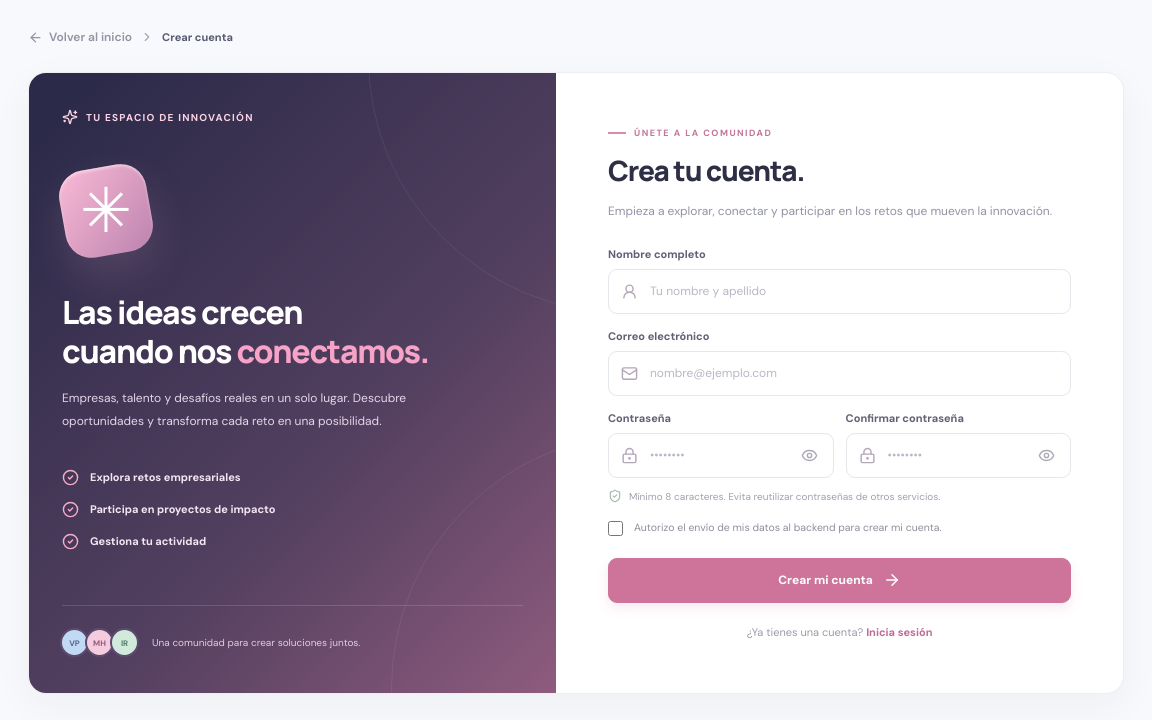
Scenario: RegisterPage › muestra el mensaje del backend si el registro es rechazado
This screenshot has width=1152, height=720.
Type "Ana Pérez" into the field with placeholder "Tu nombre y apellido" at [853, 291], box [648, 270, 1058, 312]
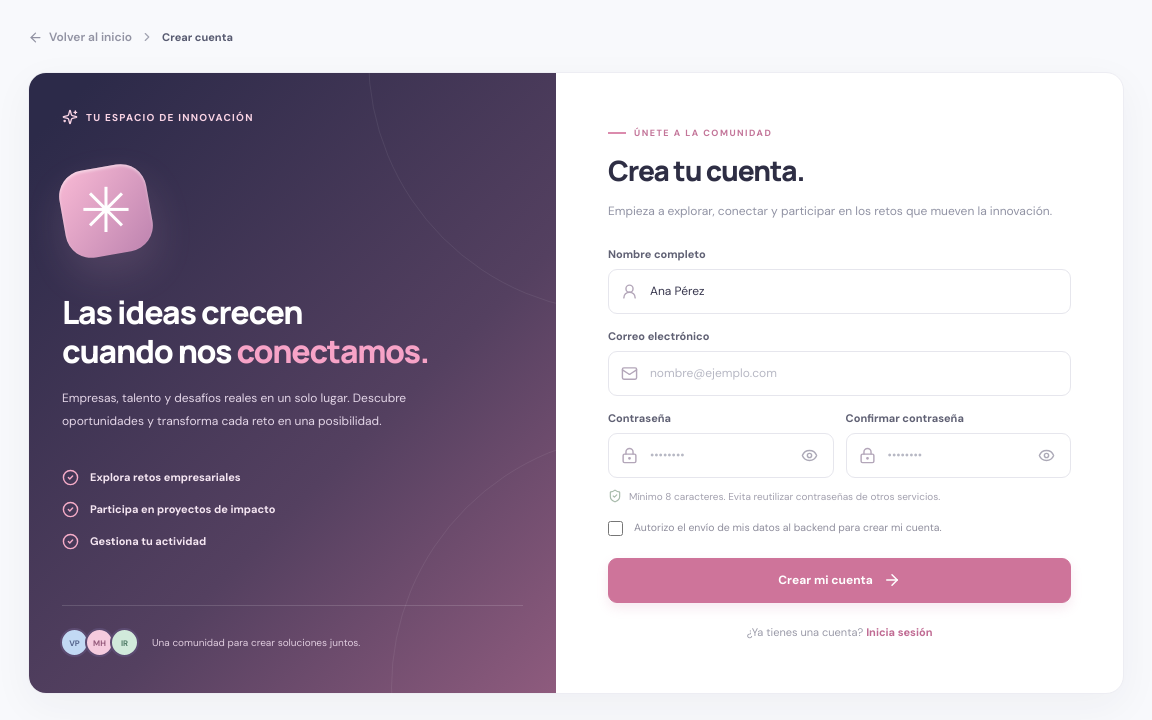
Type "ana@nexo.co" into the field with placeholder "nombre@ejemplo.com" at [853, 373], box [648, 352, 1058, 394]
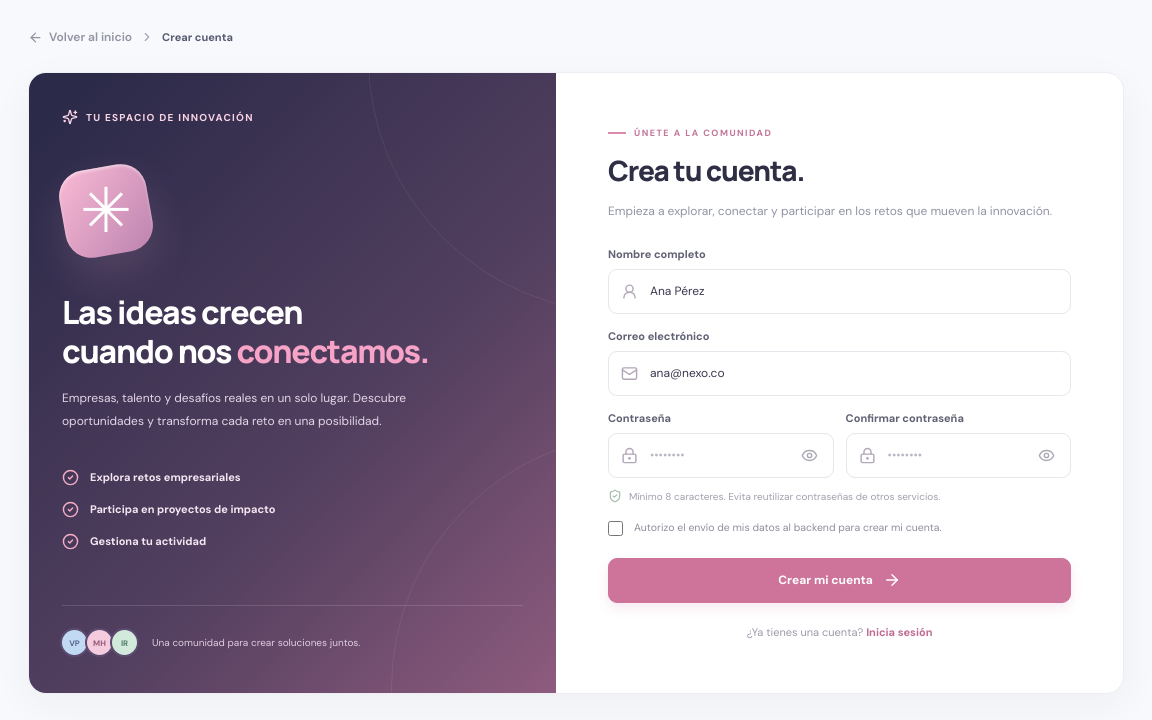
Type "secreta123" into the password field with placeholder "••••••••" at [718, 455], box [648, 434, 788, 476]
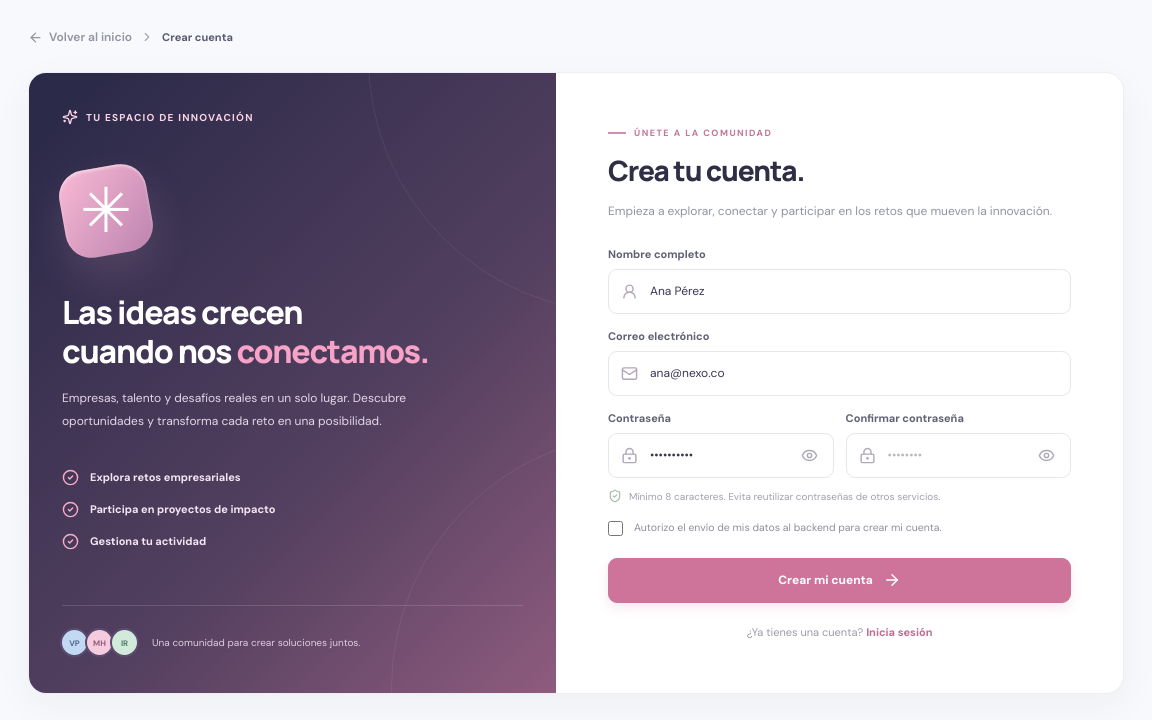
Type "secreta123" into the password field with placeholder "••••••••" at [955, 455], box [886, 434, 1025, 476]
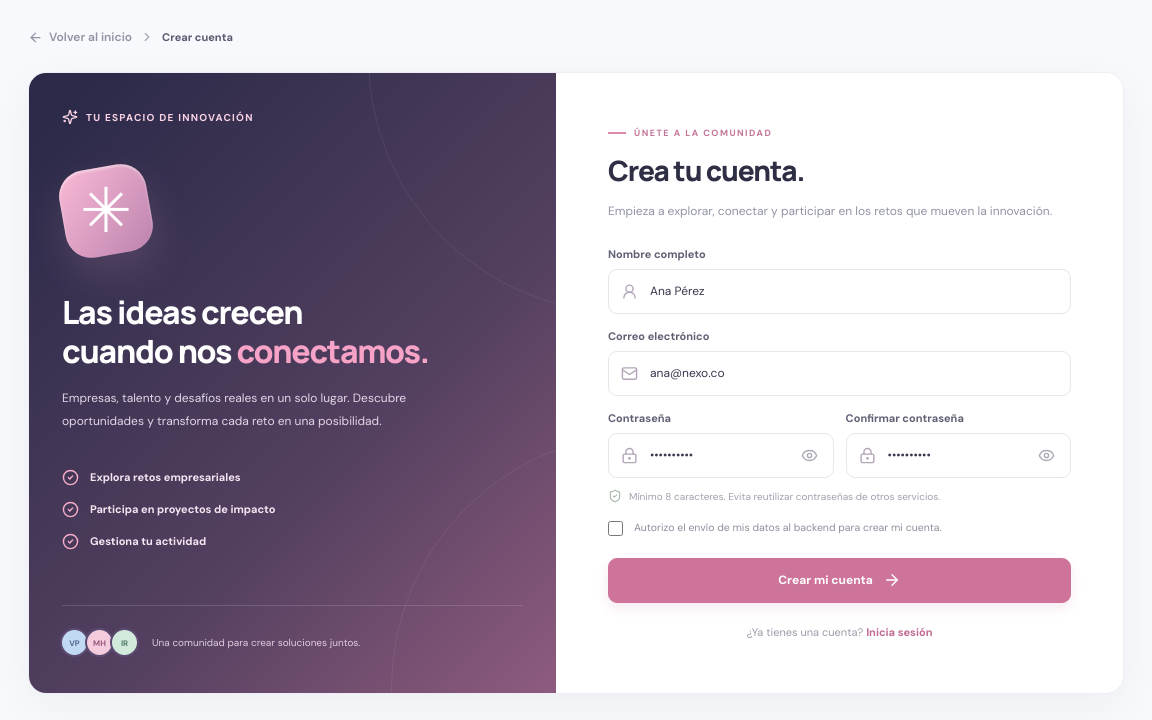
Click the checkbox at [616, 528], box [608, 520, 623, 536]
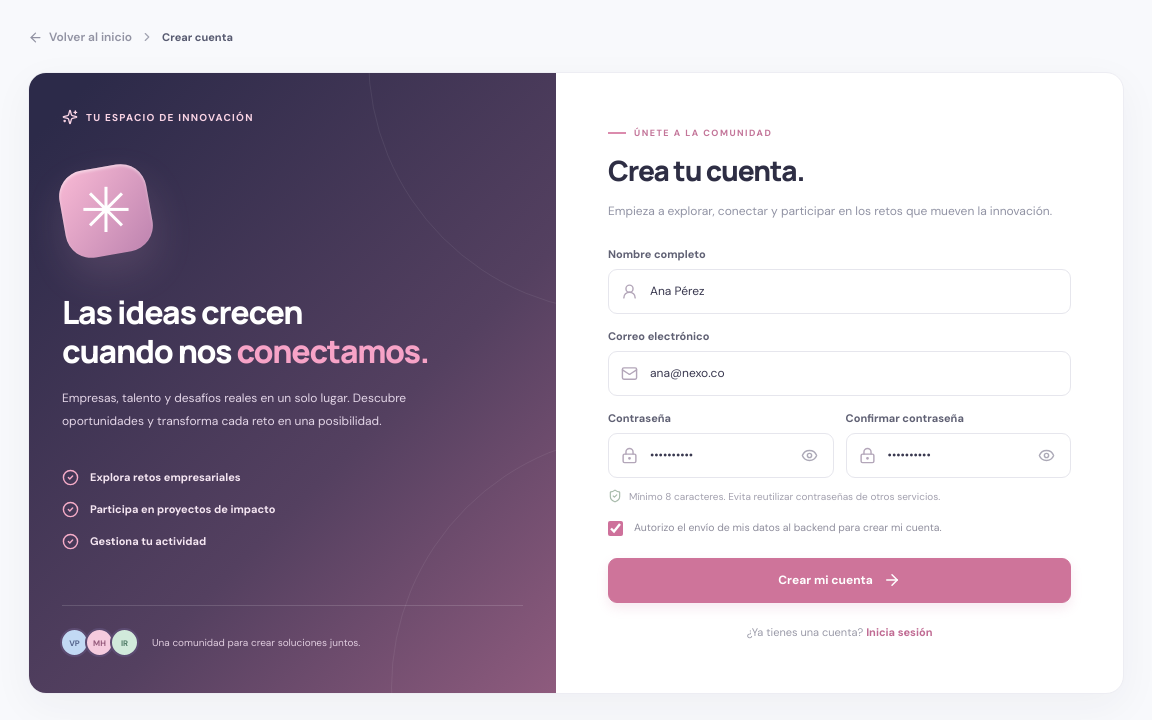
Submit the form, box [608, 246, 1071, 603]
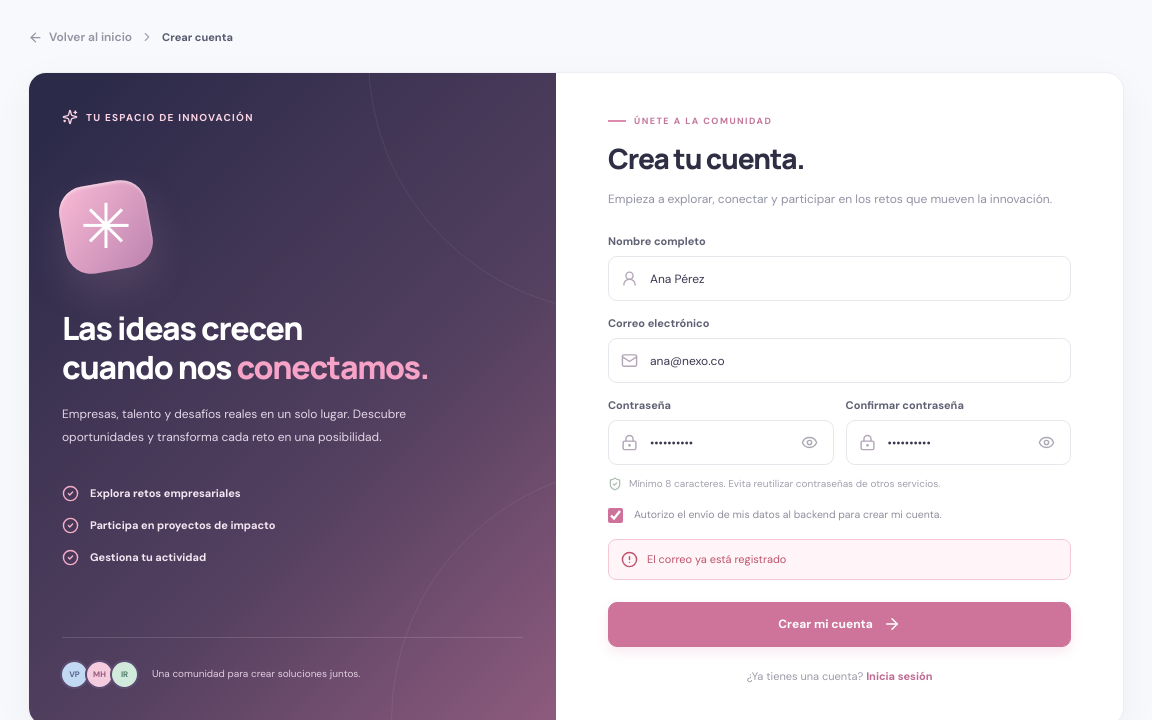
Check: the message reads "El correo ya está registrado", box [647, 552, 786, 566]
